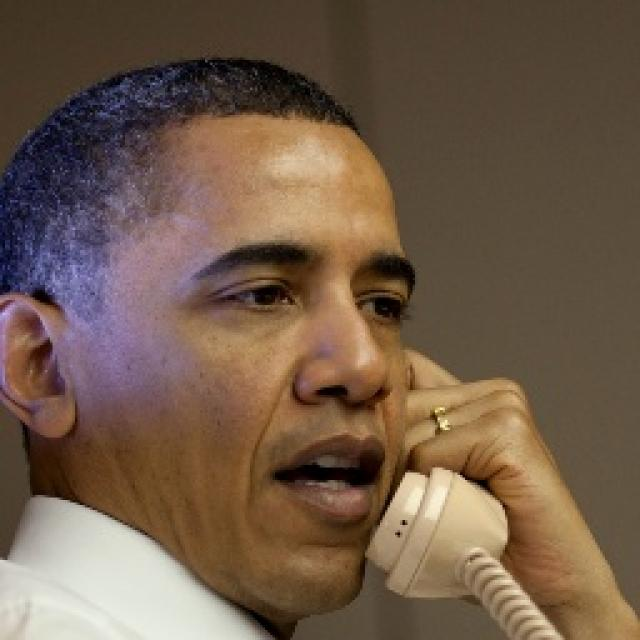earlobe: (0, 290, 75, 438)
